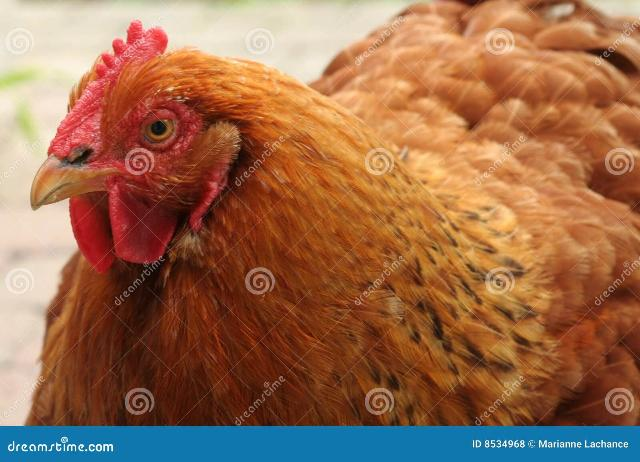Chicken: (24, 0, 640, 427)
